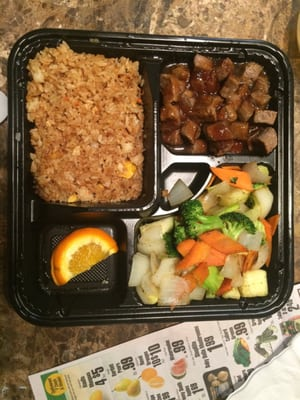curry: (180, 199, 225, 238)
sushi: (2, 29, 296, 248), (17, 42, 159, 214)
